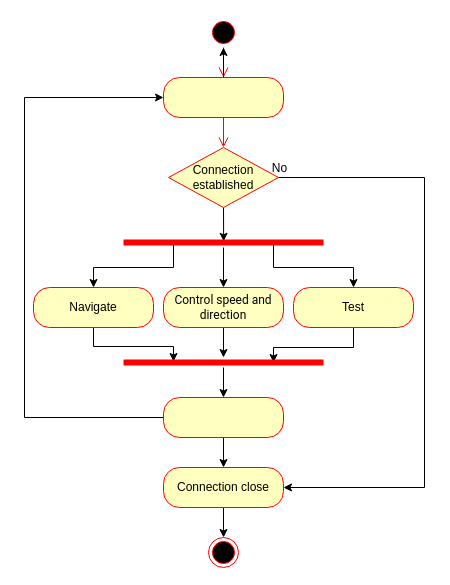
The diagram is 450 pixels wide and 585 high, and some of its shapes have lost their labels. The box of each missing label's shape, as (x1, y1, x2, y2) in pixels:
Standby: (162, 396, 284, 438)
System Initialisation: (162, 76, 284, 118)
